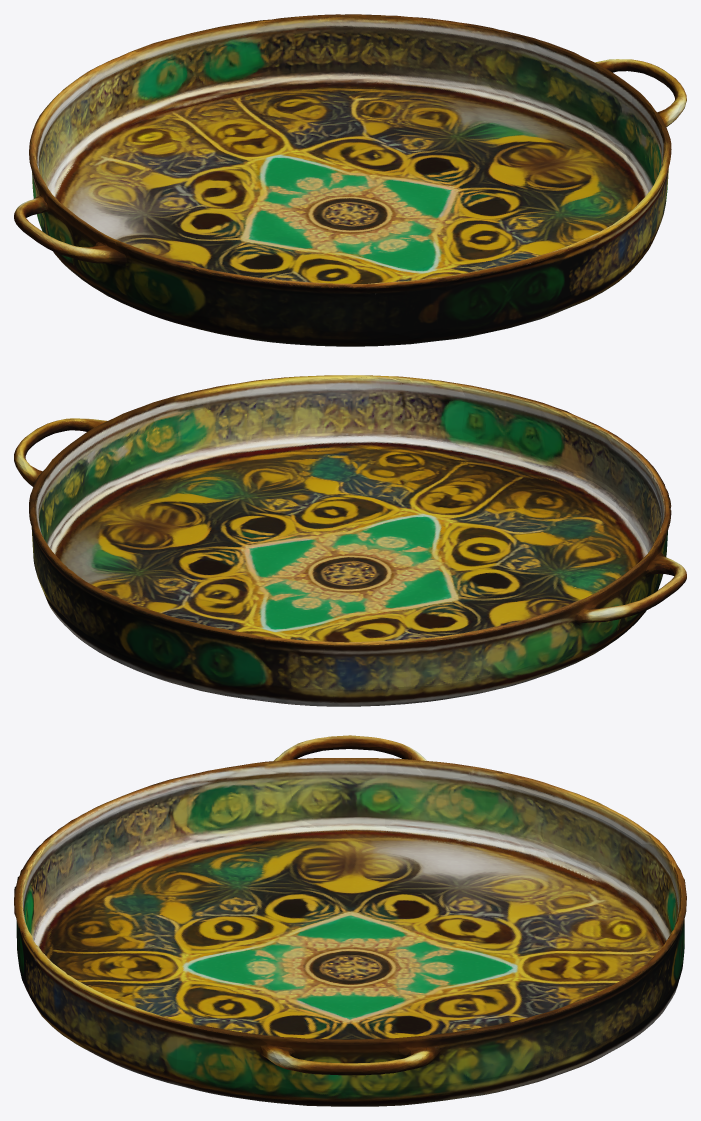
The model's file is porcelain-serving-tray-art-deco.jpeg.glb.
3 views of the same model, one above another, from view 1: azimuth 30°, elevation 25°; view 2: azimuth 150°, elevation 25°; view 3: azimuth 270°, elevation 25° (orthographic). The views are drawn at different scales.
Parts seen in each view (by area): view 1: world; view 2: world; view 3: world.
Part boxes in pixels (box(x1,y1,x2,y2)): world: box(14, 14, 686, 346); world: box(14, 375, 686, 706); world: box(14, 735, 686, 1106).
Size of the model in its own units: 1 by 0.1086 by 0.8613.
Materials: 1 (1 with a texture image).
